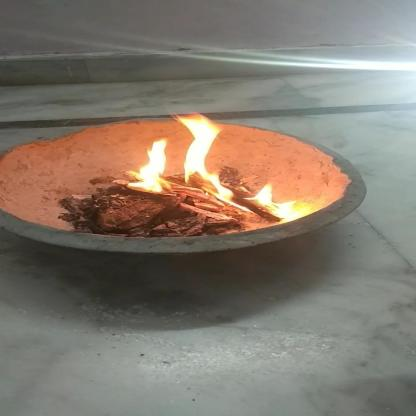fire: (171, 112, 238, 209), (128, 131, 170, 197), (246, 178, 303, 223)
